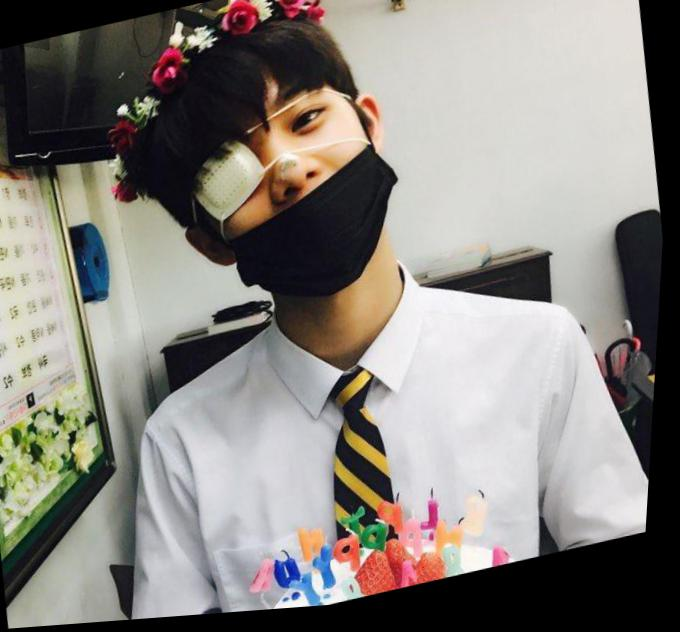WRONG: (172, 74, 408, 322)
